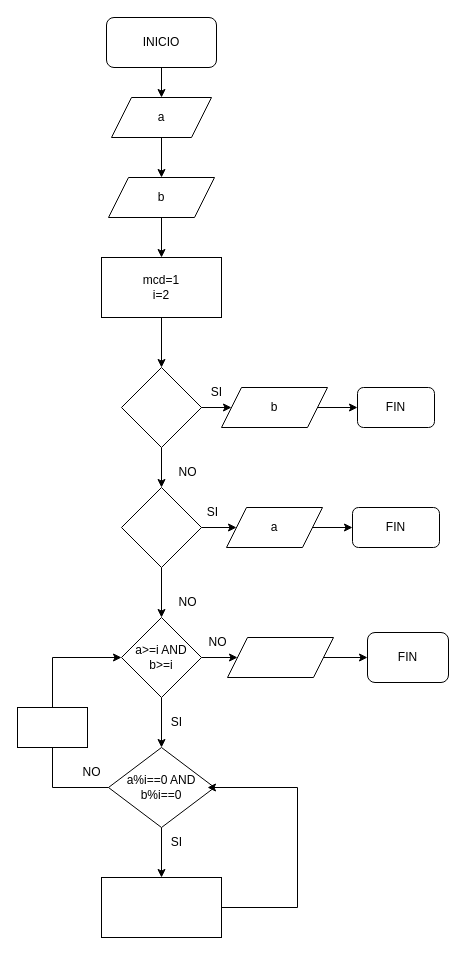
Some shapes in this 466 by 955 pixel diagram are drawn without their labels. Each missing label, with the centre of its shape:
++i: the point at 52,727
a==0: the point at 161,407
b==0: the point at 161,527
mcd: the point at 280,657
mcd=mcd*i a /= i b=b/i: the point at 161,907
